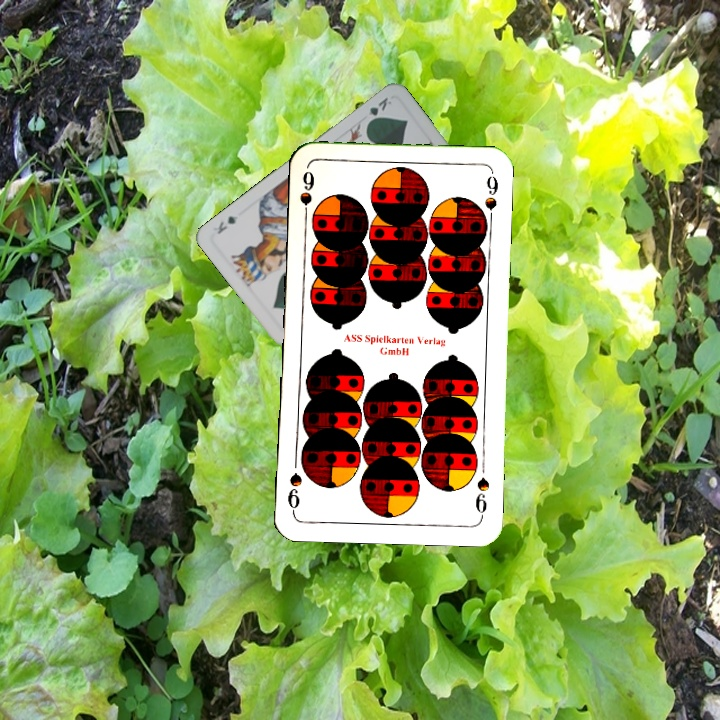GK: (363, 93, 394, 126)
S9: (296, 167, 317, 225), (471, 473, 491, 520)
